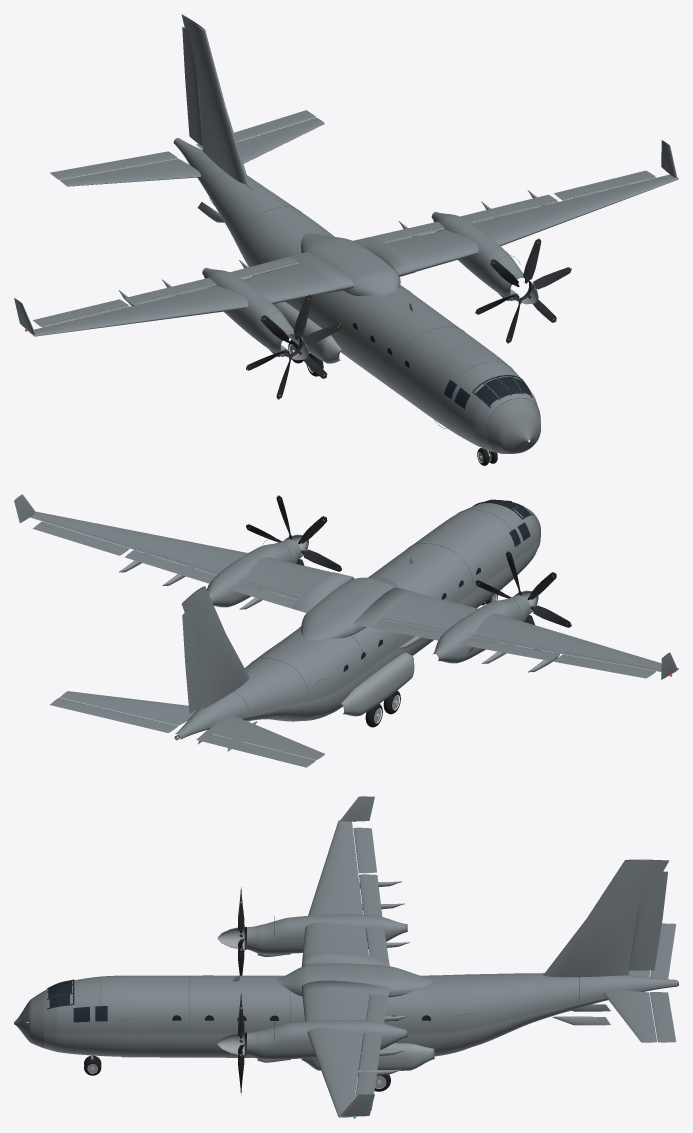
The model's file is transport-visual.glb.
3 renders of one model, top to bottom at view 1: azimuth 30°, elevation 25°; view 2: azimuth 150°, elevation 25°; view 3: azimuth 270°, elevation 25°, orthographic. The views are drawn at different scales.
Parts seen in each view (by area): view 1: Continuous shaped fuselage, Main wing -1, Main wing 1, Single swept vertical fin, Fuselage lower skin, Wing-to-body fairing, Engine nacelle -1, Engine nacelle 1, Weather radar radome, Horizontal tailplane -1, Flap 1, Flap -1 (+7 smaller); view 2: Continuous shaped fuselage, Main wing 1, Main wing -1, Single swept vertical fin, Fuselage lower skin, Wing-to-body fairing, Engine nacelle -1, Engine nacelle 1, Main gear sponson -1, Horizontal tailplane 1, Horizontal tailplane -1, Flap 1 (+6 smaller); view 3: Continuous shaped fuselage, Fuselage lower skin, Single swept vertical fin, Main wing -1, Main wing 1, Engine nacelle 1, Engine nacelle -1, Wing-to-body fairing, Rudder, Horizontal tailplane 1, Flap -1, Main gear sponson 1 (+7 smaller).
Part boxes in pixels (x1,y1,x2,y2): Continuous shaped fuselage: (173,138,538,432); Main wing -1: (28,252,353,336); Main wing 1: (353,174,678,276); Single swept vertical fin: (181,14,249,184); Fuselage lower skin: (174,143,496,452); Wing-to-body fairing: (301,233,400,295); Engine nacelle -1: (202,267,294,355); Engine nacelle 1: (431,211,523,299); Weather radar radome: (486,398,540,453); Horizontal tailplane -1: (60,158,201,186); Flap 1: (371,194,558,242); Flap -1: (125,256,299,305); Continuous shaped fuselage: (175,502,540,737); Main wing 1: (30,511,353,612); Main wing -1: (353,587,678,673); Single swept vertical fin: (181,586,249,709); Fuselage lower skin: (180,537,540,739); Wing-to-body fairing: (301,577,397,639); Engine nacelle -1: (433,595,530,663); Engine nacelle 1: (207,539,301,607); Main gear sponson -1: (340,652,414,716); Horizontal tailplane 1: (60,691,196,725); Horizontal tailplane -1: (206,714,324,760); Flap 1: (125,550,297,607); Continuous shaped fuselage: (44,973,677,1033); Fuselage lower skin: (44,985,677,1057); Single swept vertical fin: (543,859,669,977); Main wing -1: (301,820,389,966); Main wing 1: (301,980,389,1117); Engine nacelle 1: (247,1020,407,1059); Engine nacelle -1: (247,914,407,953); Wing-to-body fairing: (275,963,433,997); Rudder: (629,871,667,970); Horizontal tailplane 1: (603,990,657,1042); Flap -1: (359,874,388,958); Main gear sponson 1: (301,1043,434,1070).
Size of what is drawn, in the model's own units: 26.01 by 8.66 by 24.5.
